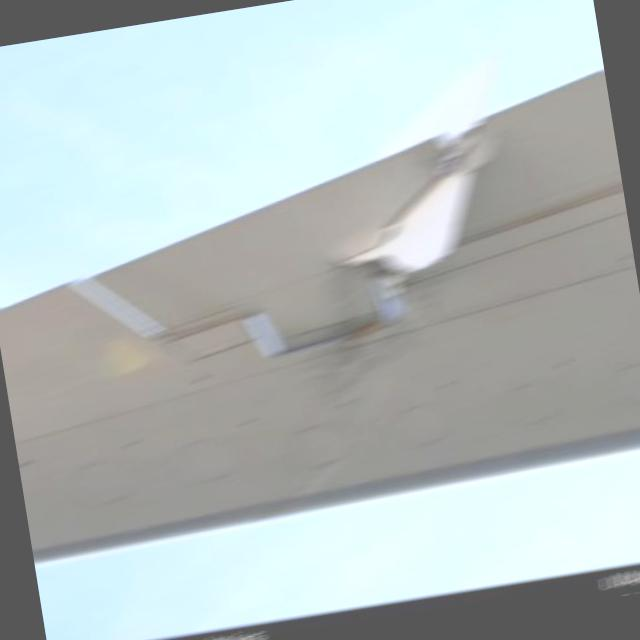crack: (308, 116, 528, 292)
